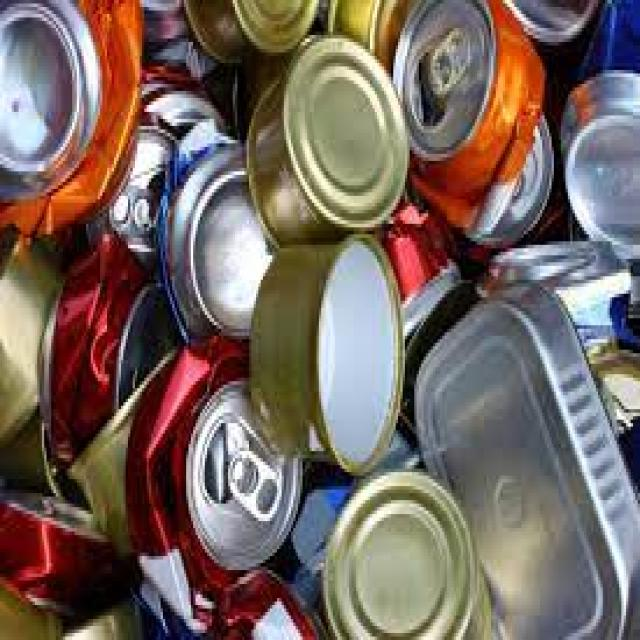Metal: (125, 334, 301, 628), (251, 45, 414, 245), (158, 117, 282, 343), (329, 476, 477, 640), (191, 386, 300, 567), (390, 0, 495, 161)
